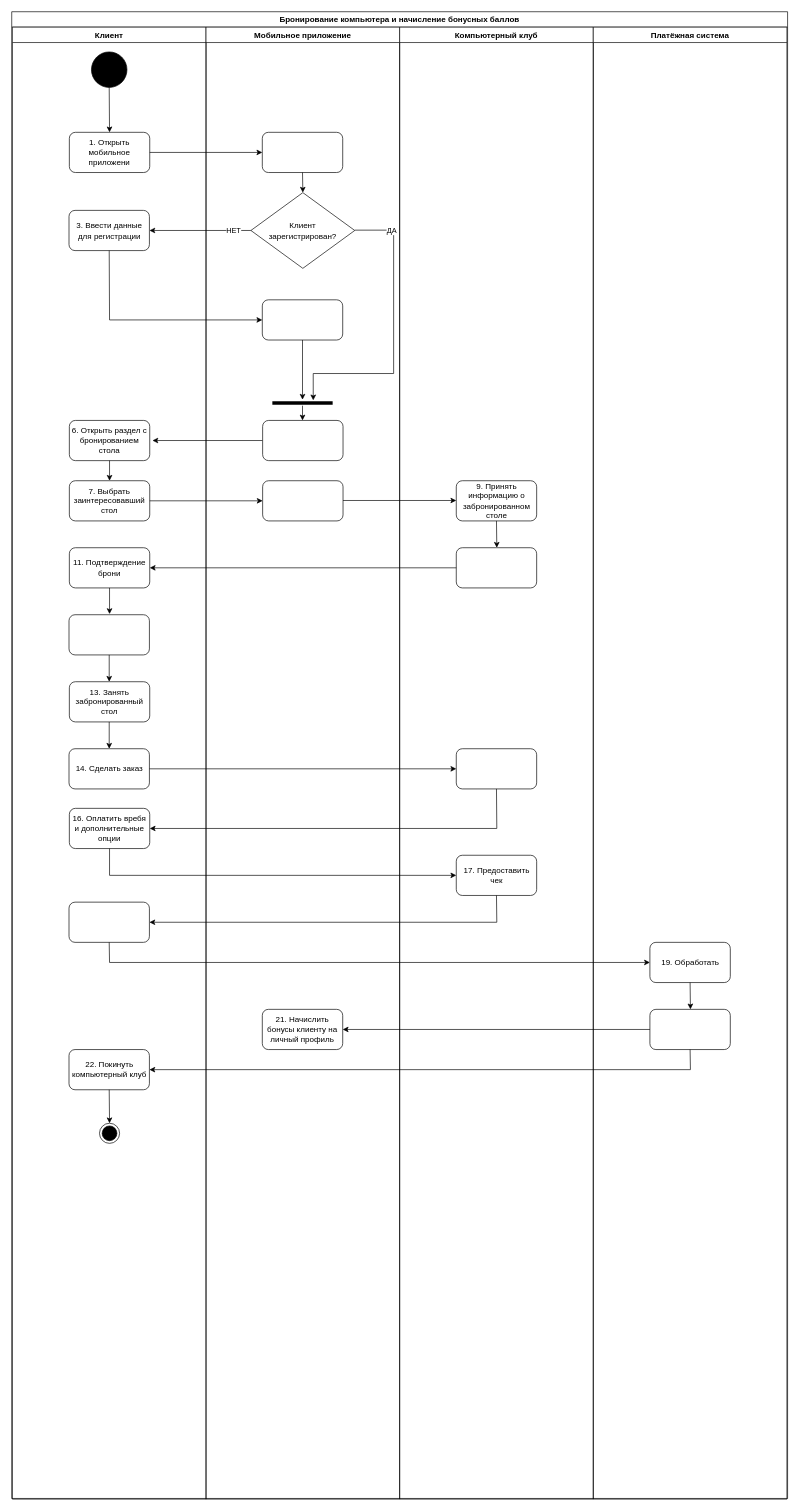
Some shapes in this 799 by 1511 pixel diagram are drawn without their labels. Each missing label, with the centre of its shape:
10. Звонок клиенту за час до забронированного времени: the point at 496,567
12. Посещение компьютерного клуба: the point at 108,634
15. Обслужить клиента: the point at 496,768
18. Оплатить чек: the point at 108,921
2. Открыть мобильное приложени: the point at 302,152
20. Подтвердить оплату: the point at 689,1029
4. Создать пользователю личный профиль: the point at 302,319
5. Загрузить главную страницу: the point at 302,440
8. Заменить состояние стояла на забронированный: the point at 302,500
